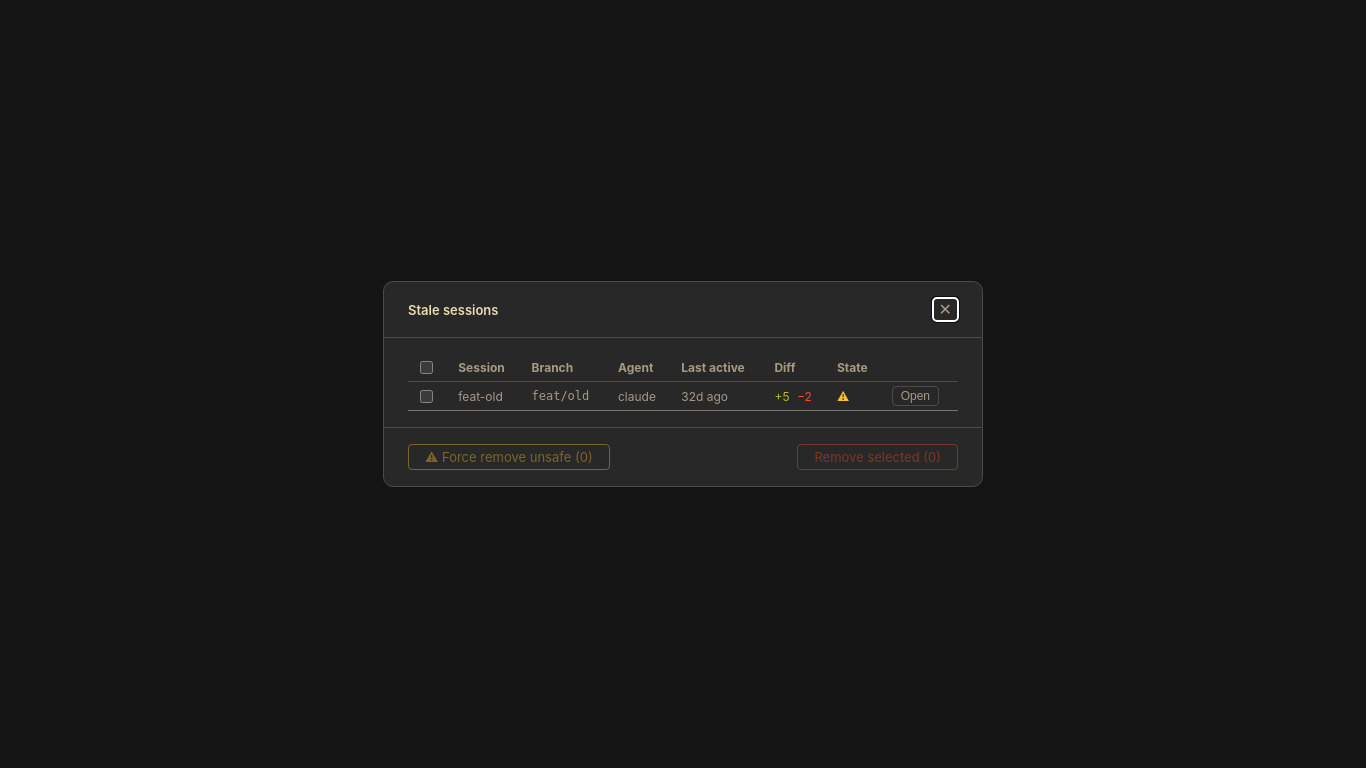
Test: Force remove unsafe control is disabled until an unsafe row is checked
Check: the button "⚠ Force remove unsafe (0)" is disabled, box [408,444,610,470]
Click the checkbox with test id "row-check-ws-u" at point(426, 396), box [420,390,433,402]
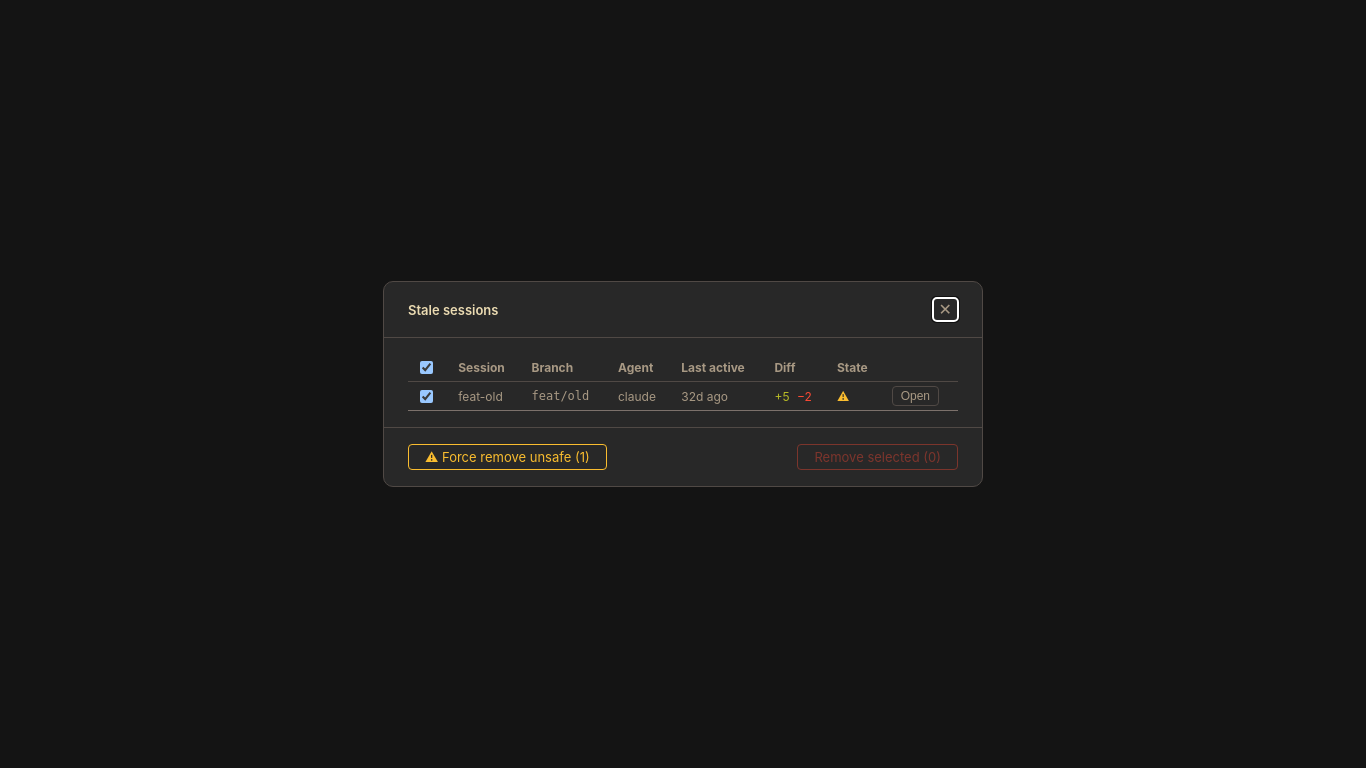
Check: the button "⚠ Force remove unsafe (1)" is enabled, box [408,444,607,470]
